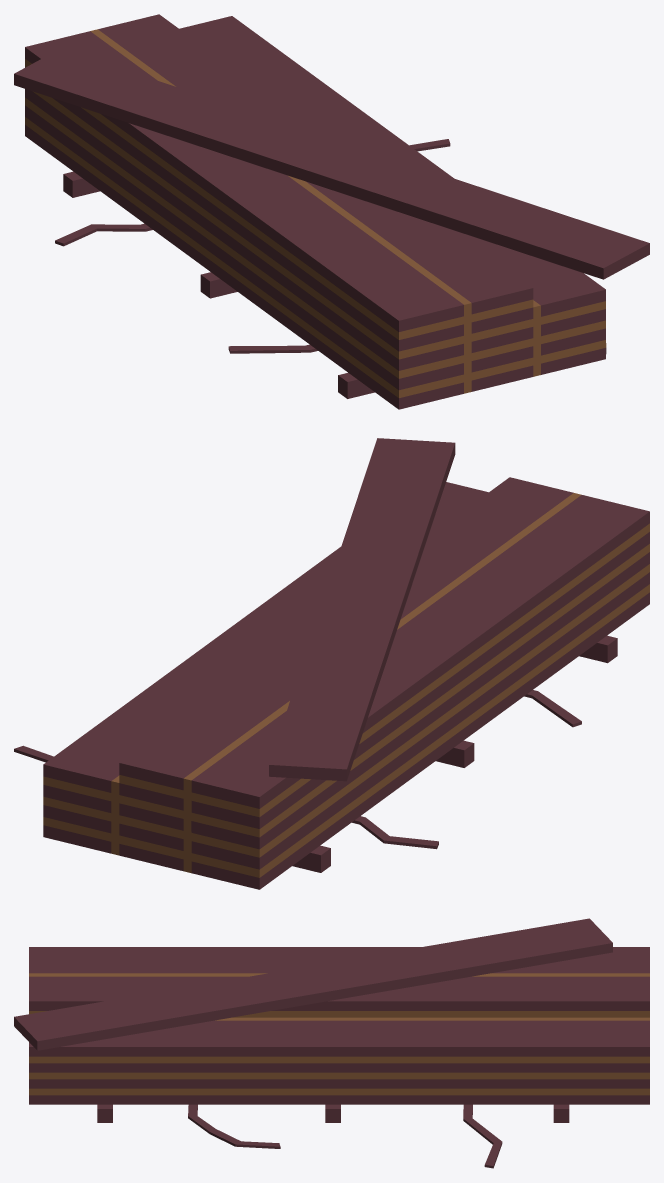
Rendered from planks-stack-unpacked.fbx.
3 renders of one model, top to bottom at view 1: azimuth 30°, elevation 25°; view 2: azimuth 150°, elevation 25°; view 3: azimuth 270°, elevation 25°, orthographic. The views are drawn at different scales.
Parts seen in each view (by area): view 1: planks-stack-unpacked; view 2: planks-stack-unpacked; view 3: planks-stack-unpacked.
Boxes of the visible parts, bbox=[...] form: planks-stack-unpacked: bbox=[14, 14, 649, 409]; planks-stack-unpacked: bbox=[14, 438, 649, 889]; planks-stack-unpacked: bbox=[14, 918, 649, 1168].
Size of the model in its own units: 3.08 by 0.8665 by 5.12.
